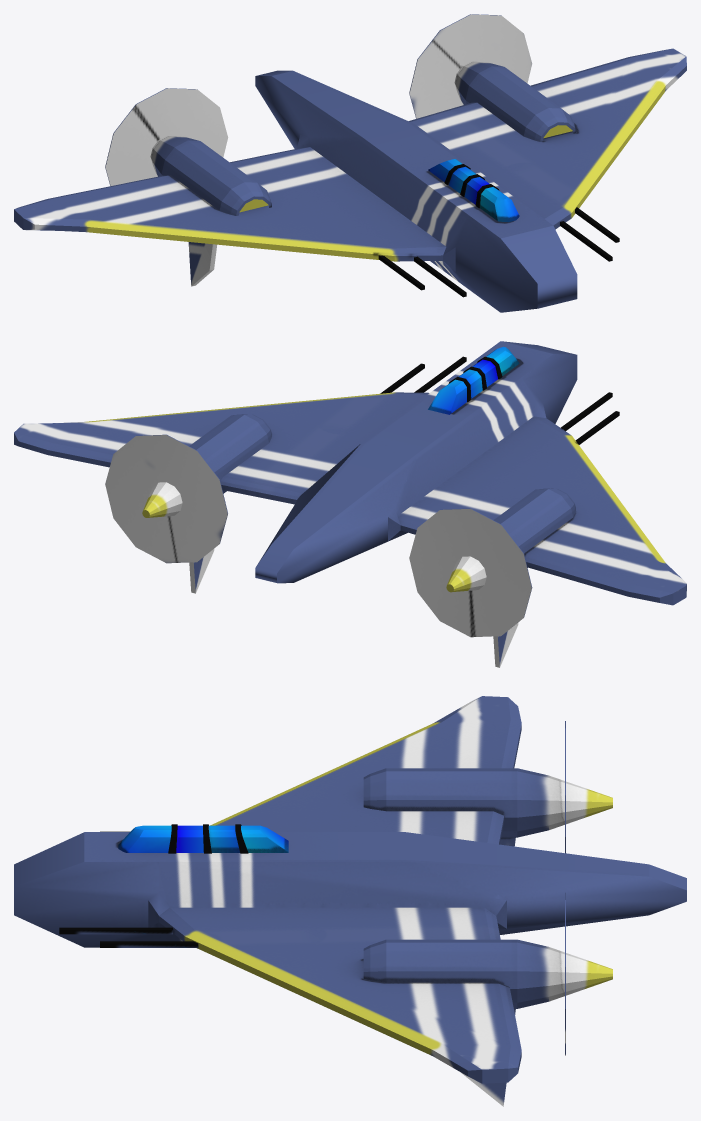
File: FireBrandModel.fbx
The picture shows the model from 3 angles, top to bottom: view 1: azimuth 30°, elevation 25°; view 2: azimuth 150°, elevation 25°; view 3: azimuth 270°, elevation 25°; orthographic projection. The views are drawn at different scales.
Parts seen in each view (by area): view 1: pFireBrand; view 2: pFireBrand; view 3: pFireBrand.
Part boxes in pixels (x1,y1,x2,y2): pFireBrand: (14, 14, 686, 312); pFireBrand: (14, 341, 686, 667); pFireBrand: (14, 696, 686, 1106).
Size of the model in its own units: 545 by 140 by 415.
1 material, 1 textured.
